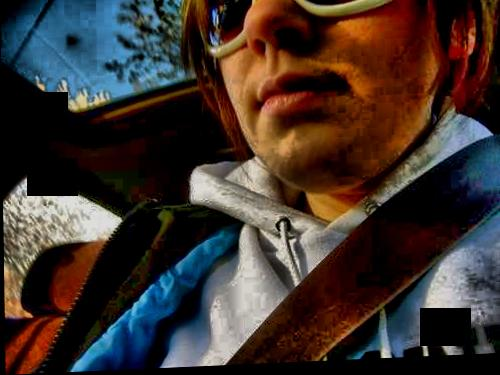seatbelt: (263, 161, 479, 338)
